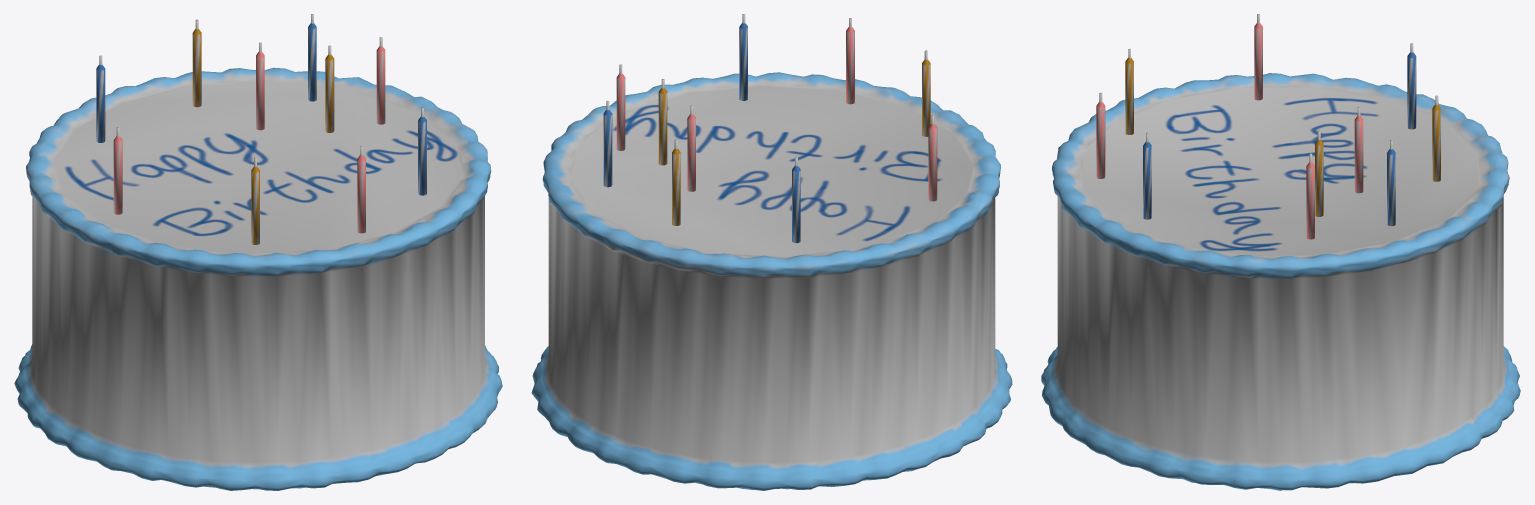
File: fo3_birthday_cake.glb
3 renders of one model, left to right at view 1: azimuth 30°, elevation 25°; view 2: azimuth 150°, elevation 25°; view 3: azimuth 270°, elevation 25°, orthographic.
Parts seen in each view (by area): view 1: Cylinder.002; view 2: Cylinder.002; view 3: Cylinder.002.
Boxes of the visible parts, x1,y1,x2,y2 form: Cylinder.002: (14,14,502,490); Cylinder.002: (531,14,1012,490); Cylinder.002: (1041,14,1520,490).
Bounding box in the file's own units: 265 × 186 × 264.
Materials: 1 (1 with a texture image).
